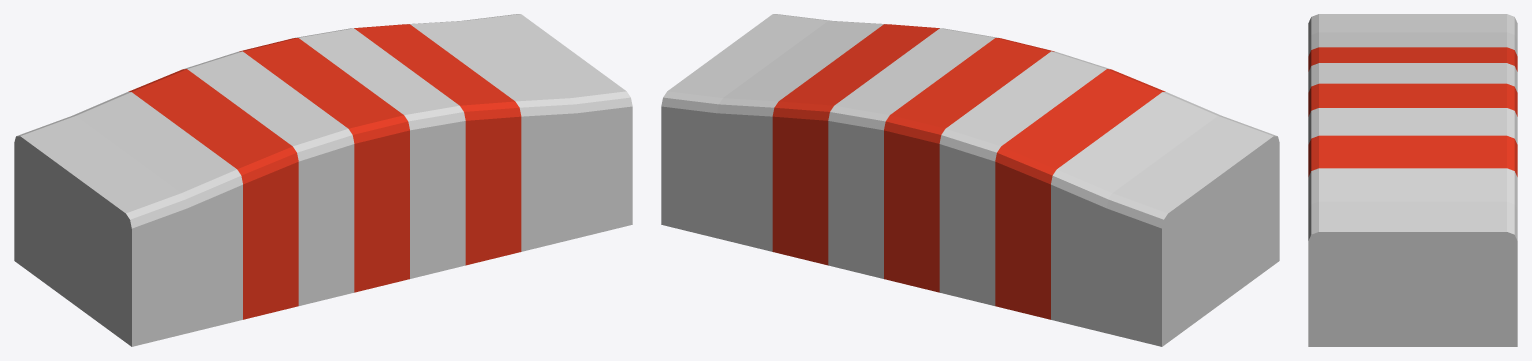
The model's file is UpperRoad.fbx.
3 views of the same model, side by side, from view 1: azimuth 30°, elevation 25°; view 2: azimuth 150°, elevation 25°; view 3: azimuth 270°, elevation 25° (orthographic). The views are drawn at different scales.
Visible parts, largest first — view 1: UpperRoad; view 2: UpperRoad; view 3: UpperRoad.
Part boxes in pixels (box(x1,y1,x2,y2)): UpperRoad: box(14, 14, 632, 346); UpperRoad: box(661, 14, 1279, 346); UpperRoad: box(1308, 14, 1517, 346).
Bounding box in the file's own units: 582 × 177 × 237.
